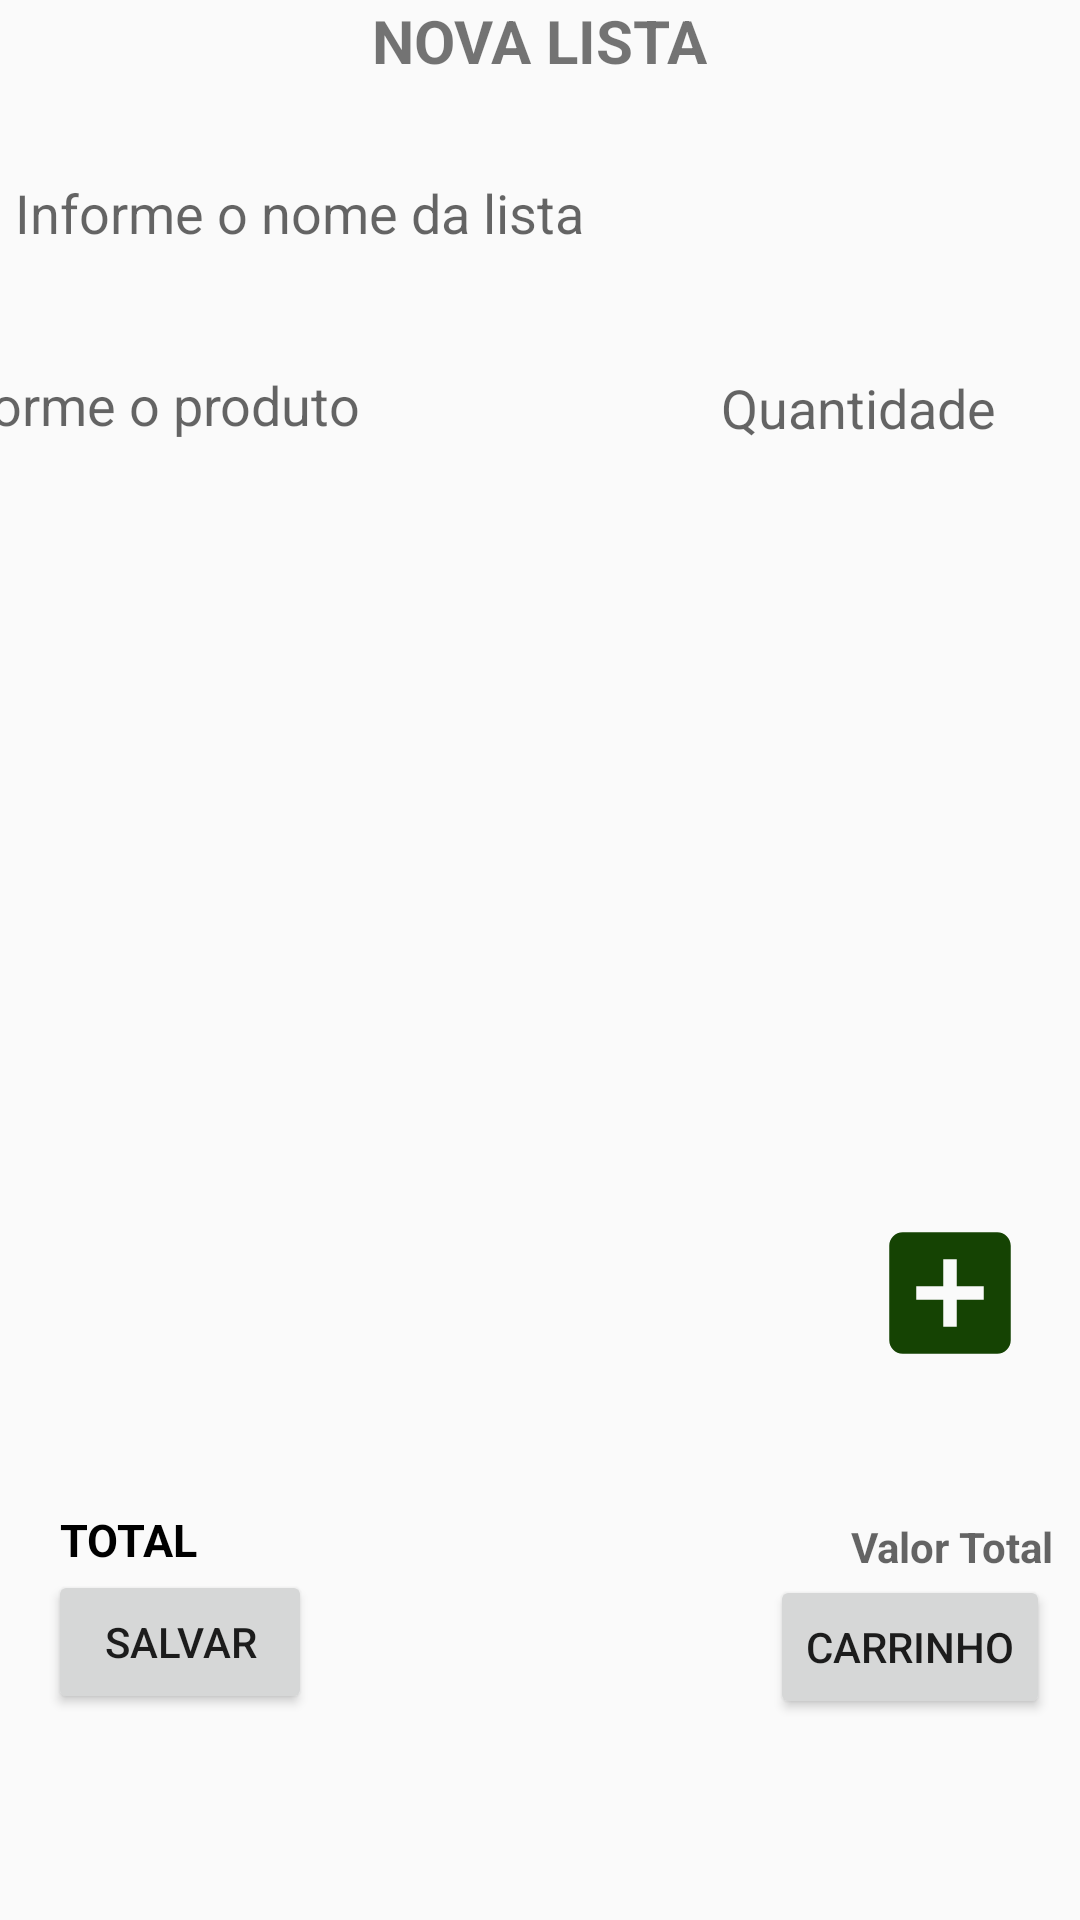

Screen size 1080px x 1920px. Icon name, then its box in pixels as (x1,y1,x2,y2):
add produto lista: (889,1232,1011,1354)
